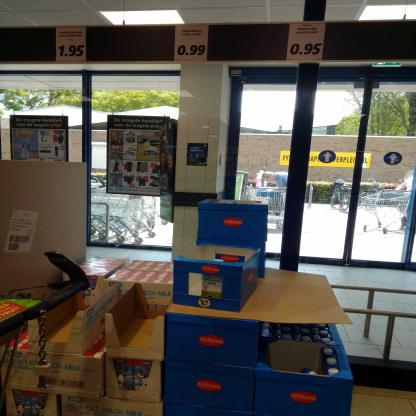prtg: (287, 24, 327, 61), (176, 26, 210, 62), (57, 28, 87, 63)
